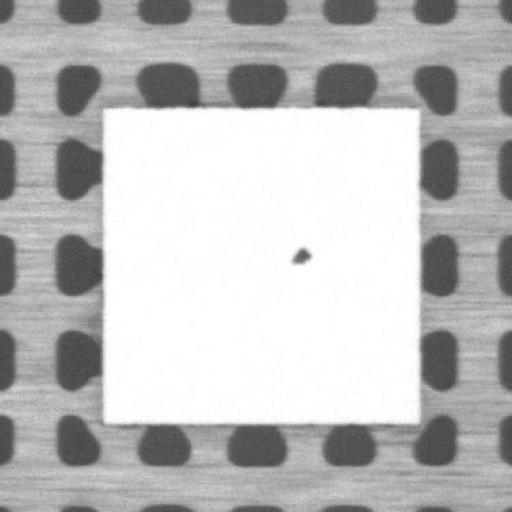DIE_INK: (289, 243, 310, 264)
